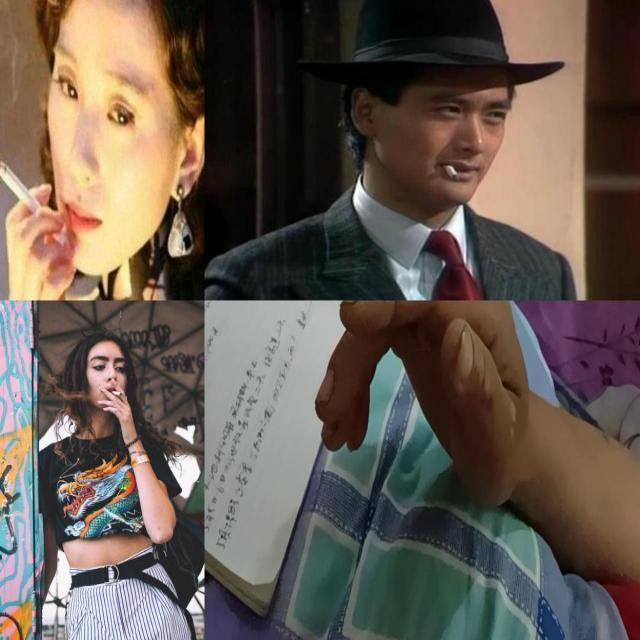rokok: (0, 158, 60, 242), (438, 159, 462, 185), (108, 386, 124, 396)
